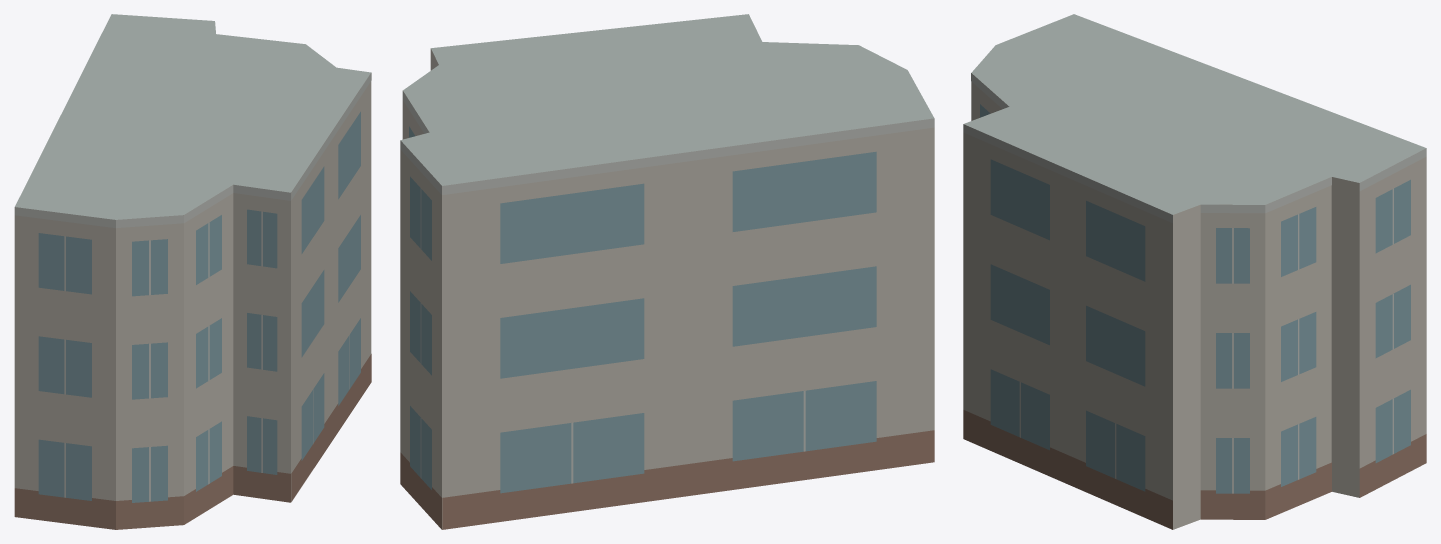
File: survey-upis-32963653.glb
The picture shows the model from 3 angles, left to right: view 1: azimuth 30°, elevation 25°; view 2: azimuth 150°, elevation 25°; view 3: azimuth 270°, elevation 25°; orthographic projection. The views are drawn at different scales.
Visible parts, largest first — view 1: survey-upis-32963653.tmp; view 2: survey-upis-32963653.tmp; view 3: survey-upis-32963653.tmp.
Part boxes in pixels (left/top/right/bottom): survey-upis-32963653.tmp: left=14, top=14, right=371, bottom=529; survey-upis-32963653.tmp: left=400, top=14, right=934, bottom=529; survey-upis-32963653.tmp: left=963, top=14, right=1426, bottom=529.
Size of the model in its own units: 12.53 by 9.15 by 12.21.
